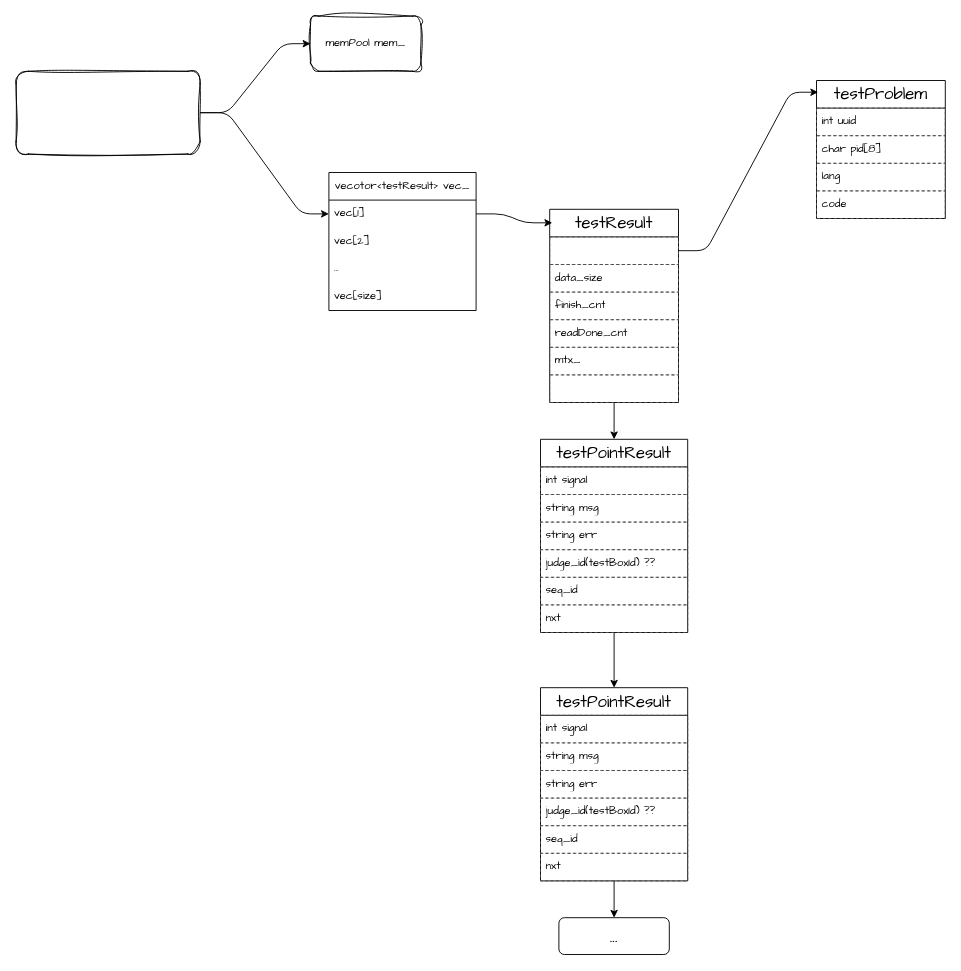
Some shapes in this 961 by 971 pixel diagram are drawn without their labels. Each missing label, with the centre of its shape:
resultContainer: (107,112)
test_problem_p: (613,250)
testPointResult * trp: (613,388)
